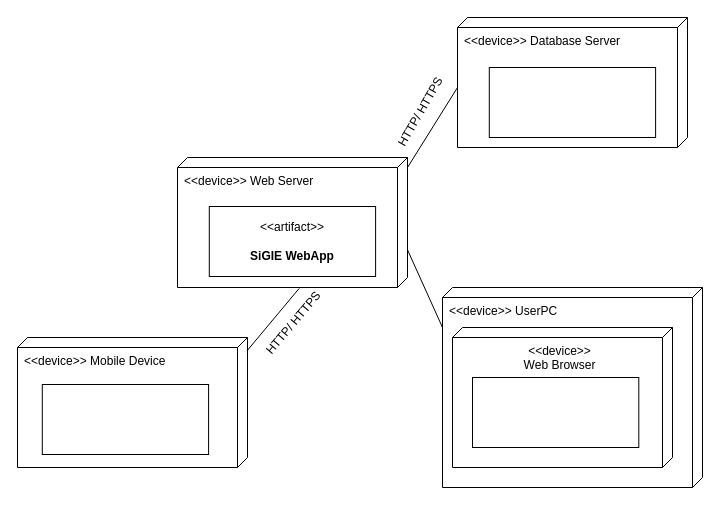
Image size: 720x505. Some labels were removed from this diagram. Here are the shapes that lost their labels. From the top down, the centre of each, then its label:
the point at 572,102: <<artifact>> SQL Database
the point at 125,419: <<artifact>> SiGIE Mobile App
the point at 555,412: <<artifact>> HTML5 Player
